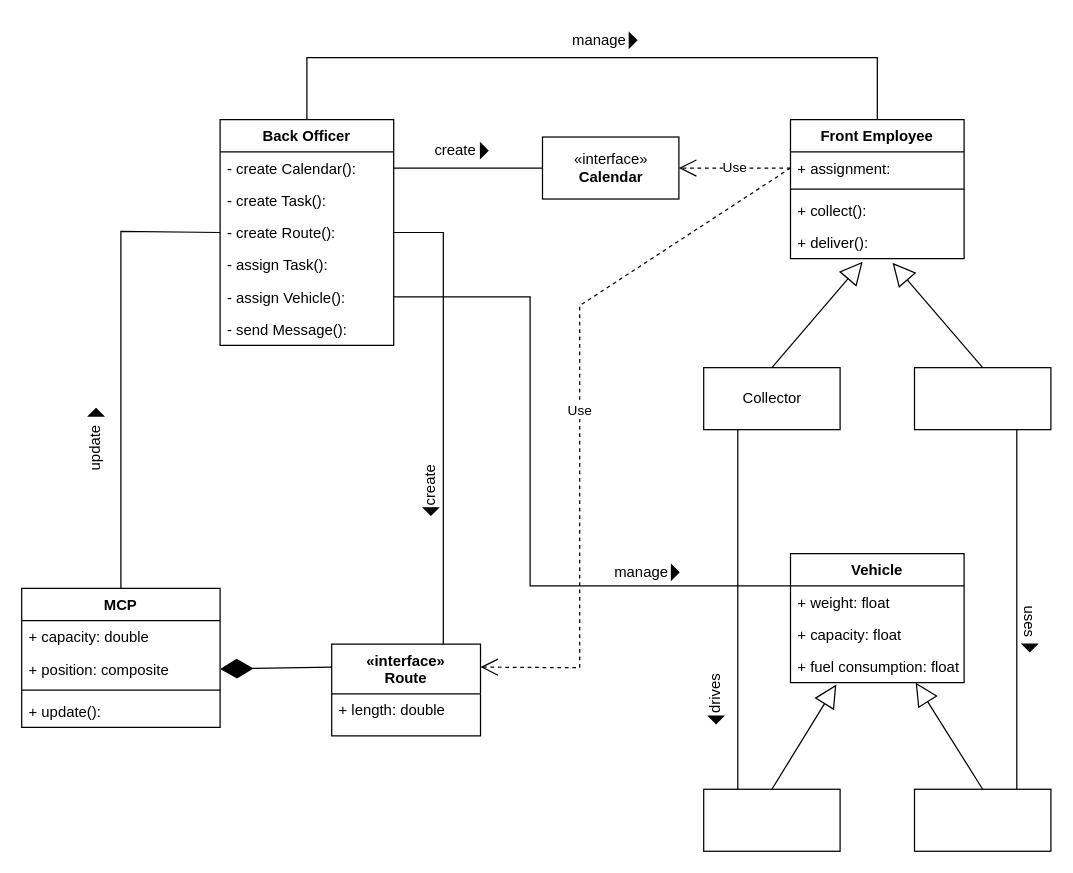
Image size: 1073x873. Some labels were removed from this diagram. Each missing label, with the centre of its shape:
Janitor: the point at 982,398
Troller: the point at 982,819
Truck: the point at 771,819
